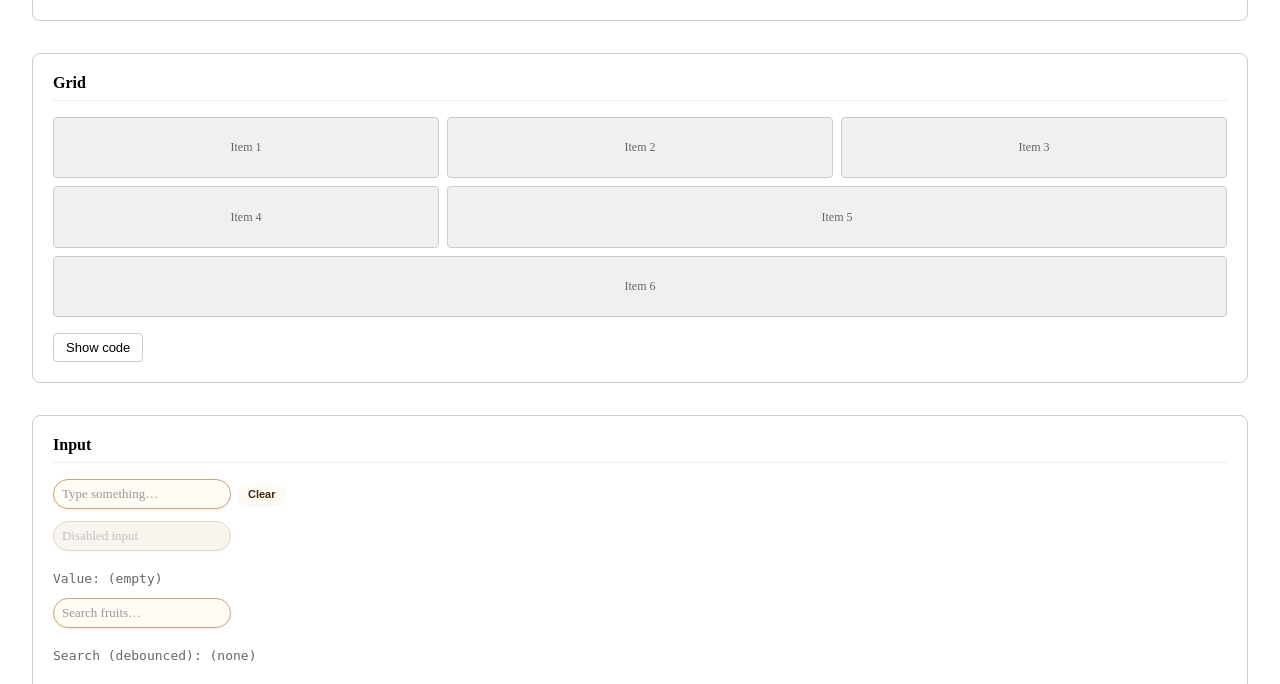
Test: ComponentCatalog › Grid section remains collapsed until explicitly clicked
(page scrolled)
Click the button "Show code" below "Item 4" at (98, 348), box [53,333,143,362]
(page scrolled)
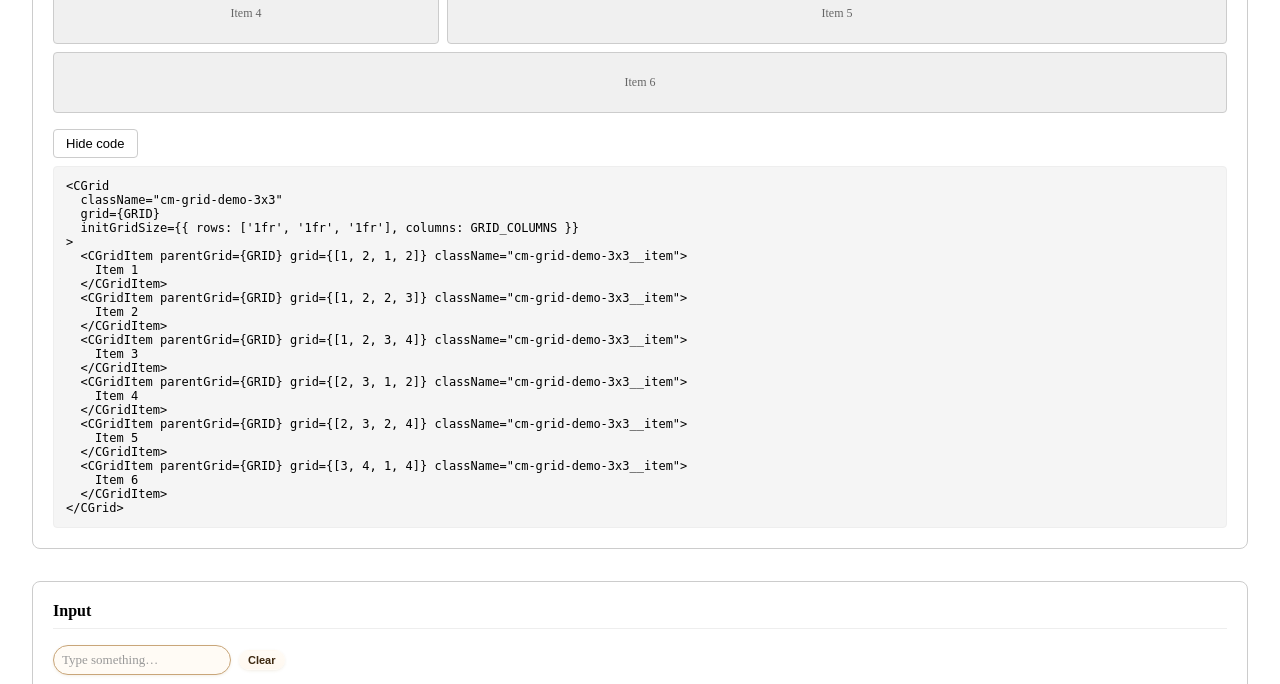
Now the button named "Show code" is expanded, box [53,129,138,158]
Now the text "CGrid" is shown, box [66,179,687,515]
